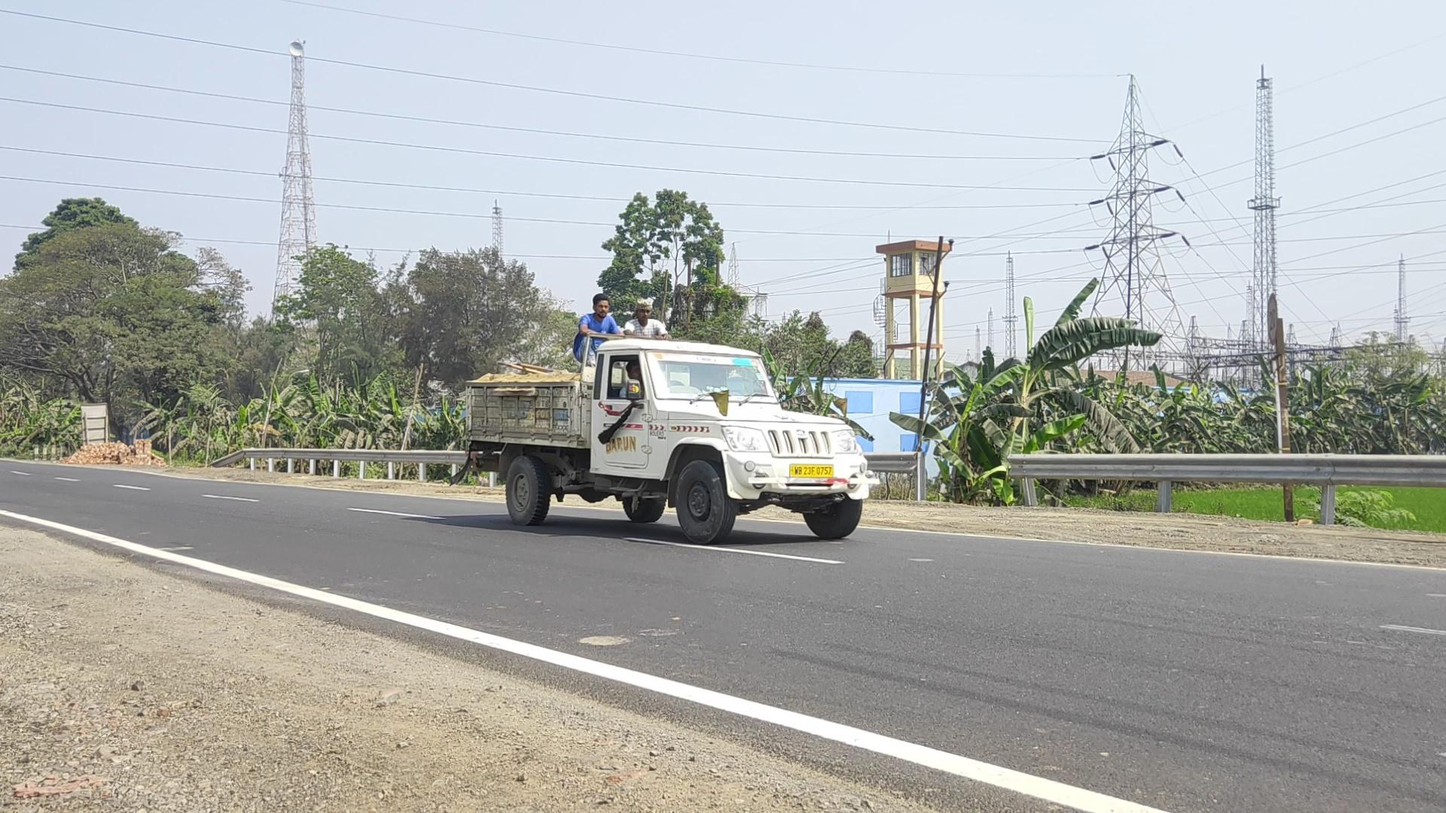van: (465, 293, 869, 546)
